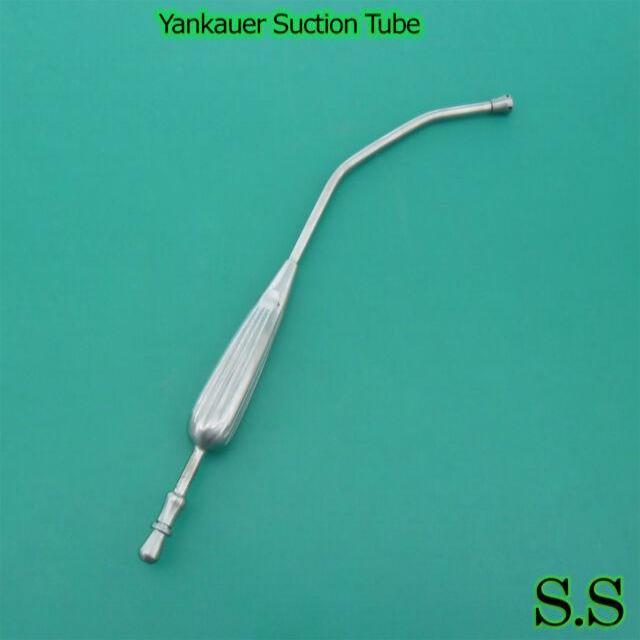Yankauer: (137, 91, 517, 568)
